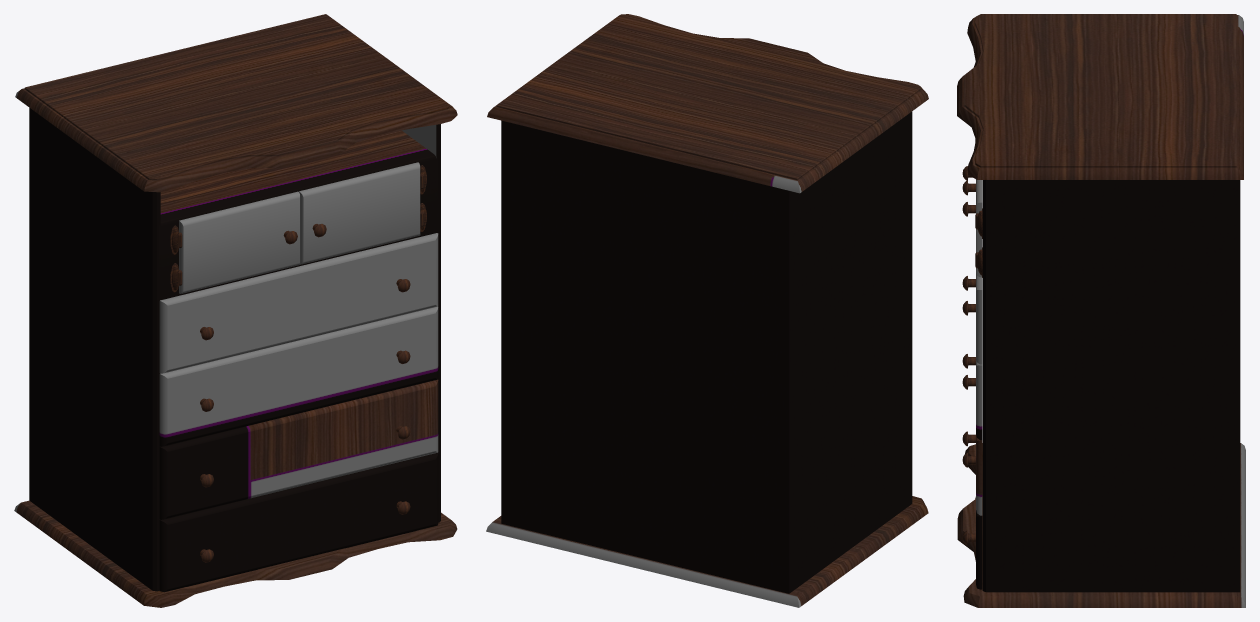
Rendered from Armario_3.fbx.
The picture shows the model from 3 angles, left to right: view 1: azimuth 30°, elevation 25°; view 2: azimuth 150°, elevation 25°; view 3: azimuth 270°, elevation 25°; orthographic projection. The views are drawn at different scales.
Parts seen in each view (by area): view 1: Drawer_Wardrobe_001_Wardrobe_0; view 2: Drawer_Wardrobe_001_Wardrobe_0; view 3: Drawer_Wardrobe_001_Wardrobe_0.
Part boxes in pixels (x1=…): Drawer_Wardrobe_001_Wardrobe_0: x1=14, y1=14, x2=457, y2=607; Drawer_Wardrobe_001_Wardrobe_0: x1=486, y1=14, x2=928, y2=607; Drawer_Wardrobe_001_Wardrobe_0: x1=957, y1=14, x2=1245, y2=607.
Bounding box in the file's own units: 98.61 × 128 × 76.19.
